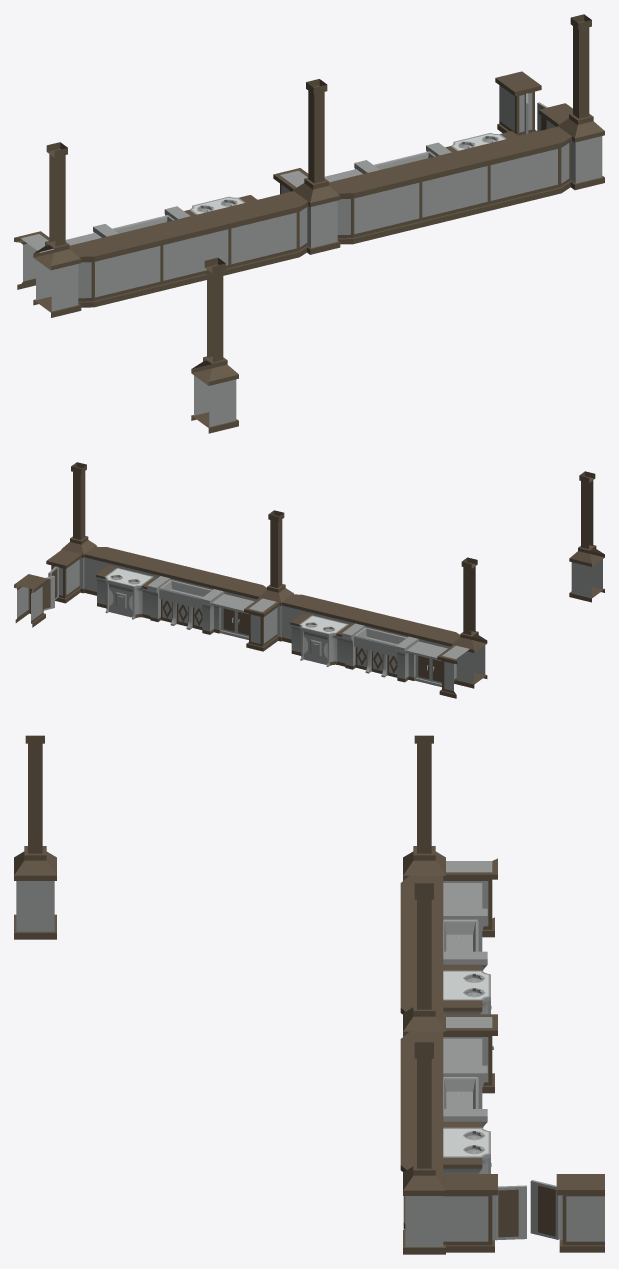
The picture shows the model from 3 angles, top to bottom: view 1: azimuth 30°, elevation 25°; view 2: azimuth 150°, elevation 25°; view 3: azimuth 270°, elevation 25°; orthographic projection. The views are drawn at different scales.
Visible parts, largest first — view 1: G:\FFXIV-MapTools\exports\s1f3\bg\ffxiv\sea_s1\fld\s1f3\bgpa (×4); view 2: G:\FFXIV-MapTools\exports\s1f3\bg\ffxiv\sea_s1\fld\s1f3\bgpa (×5); view 3: G:\FFXIV-MapTools\exports\s1f3\bg\ffxiv\sea_s1\fld\s1f3\bgpa (×5).
Boxes of the visible parts, box(x1,y1,x2,y2) form: G:\FFXIV-MapTools\exports\s1f3\bg\ffxiv\sea_s1\fld\s1f3\bgpa (×4): box(14, 14, 604, 433); G:\FFXIV-MapTools\exports\s1f3\bg\ffxiv\sea_s1\fld\s1f3\bgpa (×5): box(14, 462, 604, 698); G:\FFXIV-MapTools\exports\s1f3\bg\ffxiv\sea_s1\fld\s1f3\bgpa (×5): box(14, 735, 604, 1254).
Size of the model in its own units: 13.41 by 3.73 by 10.05.
